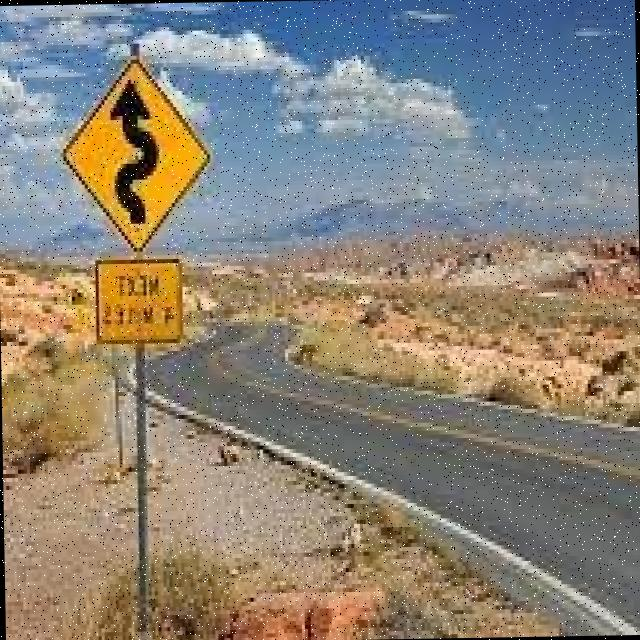left_sharp_curve: (54, 51, 218, 258)
